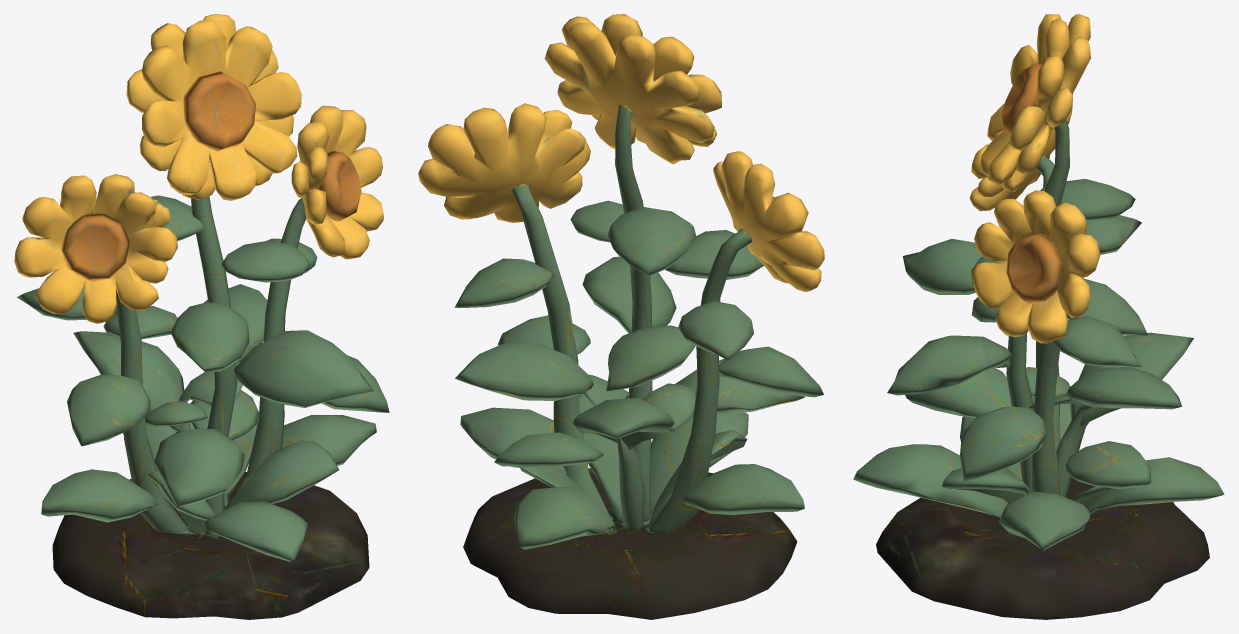
Rendered from sunflowers.glb.
3 views of the same model, side by side, from view 1: azimuth 30°, elevation 25°; view 2: azimuth 150°, elevation 25°; view 3: azimuth 270°, elevation 25° (orthographic). The views are drawn at different scales.
Size of the model in its own units: 0.7538 by 1 by 0.6378.
1 material, 1 textured.
